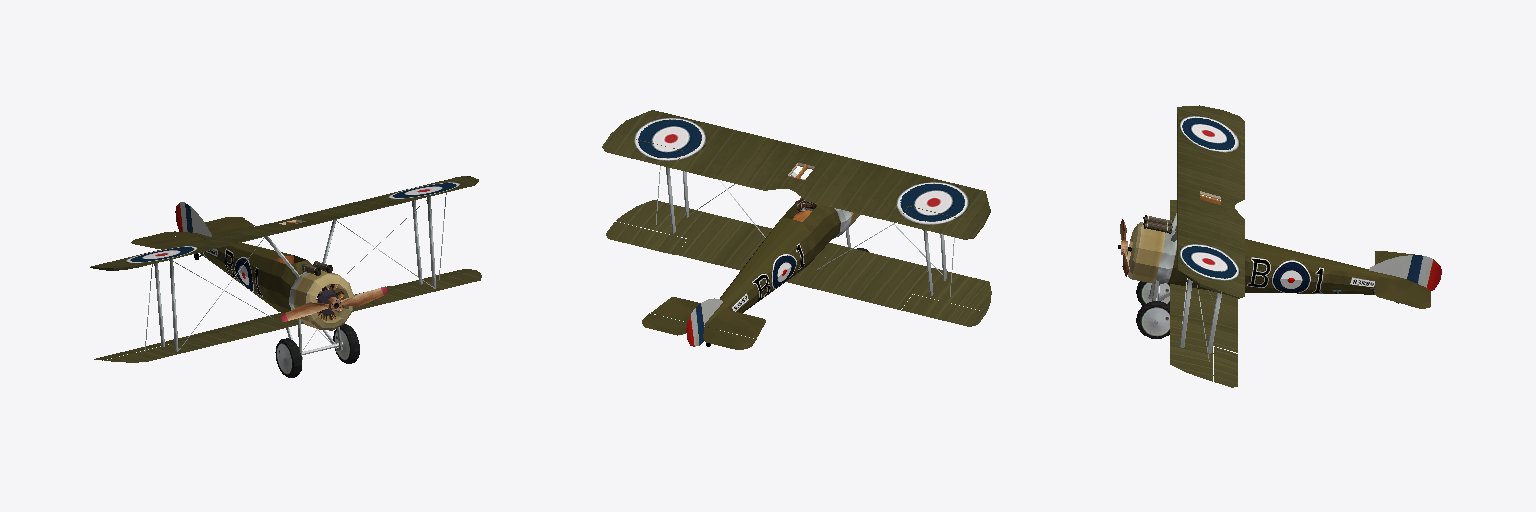
The picture shows the model from 3 angles: view 1: azimuth 30°, elevation 25°; view 2: azimuth 150°, elevation 25°; view 3: azimuth 270°, elevation 25°; orthographic projection.
Visible parts, largest first — view 1: bottom wing, top wing, nose, backw new fuse, struts, tail flat, prop, tail rudder; view 2: top wing, bottom wing, backw new fuse, tail flat, nose, struts, tail rudder, new fuse; view 3: top wing, bottom wing, new fuse, nose, tail flat, tail rudder, L wheel, struts.
Part boxes in pixels (x1,y1,x2,y2): bottom wing: (94, 269, 481, 362); top wing: (92, 176, 478, 267); nose: (266, 255, 353, 330); backw new fuse: (194, 233, 280, 311); struts: (145, 193, 446, 351); tail flat: (131, 217, 254, 248); prop: (281, 286, 387, 321); tail rudder: (175, 202, 211, 236); top wing: (602, 110, 990, 239); bottom wing: (606, 200, 991, 326); backw new fuse: (705, 219, 814, 329); tail flat: (642, 297, 765, 349); nose: (783, 197, 860, 260); struts: (655, 166, 954, 299); tail rudder: (686, 298, 722, 346); new fuse: (720, 217, 791, 300); top wing: (1177, 105, 1244, 297); bottom wing: (1170, 200, 1237, 387); new fuse: (1245, 243, 1404, 294); nose: (1128, 222, 1213, 291); tail flat: (1375, 251, 1430, 308); tail rudder: (1369, 255, 1441, 290); L wheel: (1138, 306, 1169, 337); struts: (1171, 198, 1221, 361).
Bounding box in the file's own units: 474 × 165 × 358.
Materials: 1 (1 with a texture image).